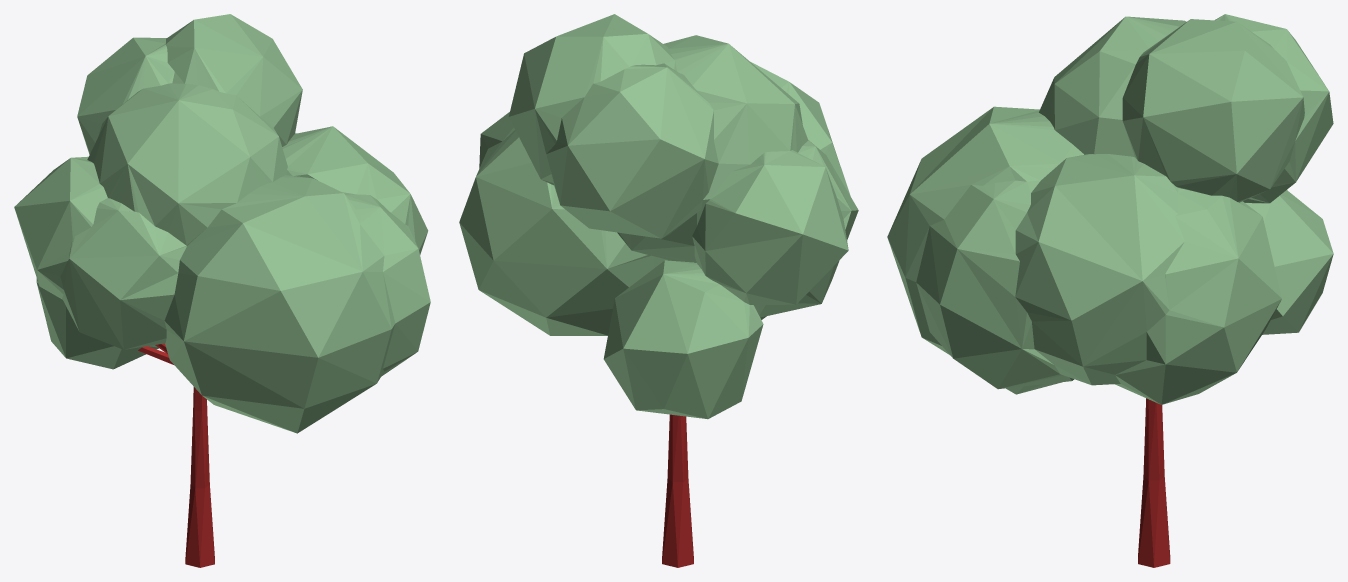
Rendered from bubble_tree_2.fbx.
The picture shows the model from 3 angles, left to right: view 1: azimuth 30°, elevation 25°; view 2: azimuth 150°, elevation 25°; view 3: azimuth 270°, elevation 25°; orthographic projection. The views are drawn at different scales.
Parts seen in each view (by area): view 1: _G-Object.009 (Loose Mesh), G-Object.016; view 2: _G-Object.009 (Loose Mesh), G-Object.016; view 3: _G-Object.009 (Loose Mesh), G-Object.016.
Boxes of the visible parts, x1=… form: _G-Object.009 (Loose Mesh): x1=14, y1=14, x2=430, y2=433; G-Object.016: x1=185, y1=408, x2=214, y2=567; _G-Object.009 (Loose Mesh): x1=459, y1=14, x2=858, y2=419; G-Object.016: x1=662, y1=414, x2=693, y2=567; _G-Object.009 (Loose Mesh): x1=887, y1=14, x2=1333, y2=404; G-Object.016: x1=1138, y1=398, x2=1170, y2=567.
Size of the model in its own units: 965 by 1327 by 967.
